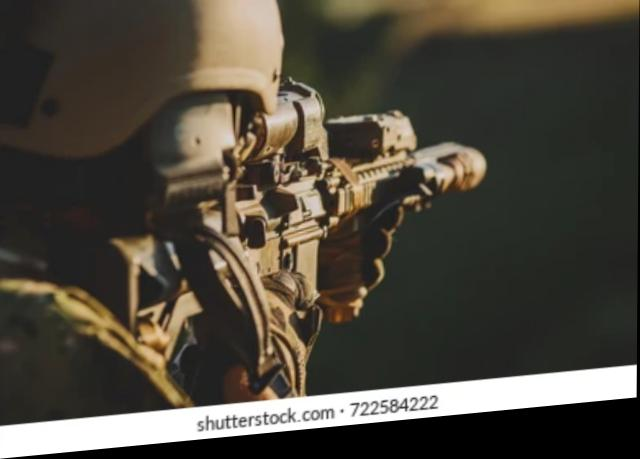other: (0, 0, 344, 427)
